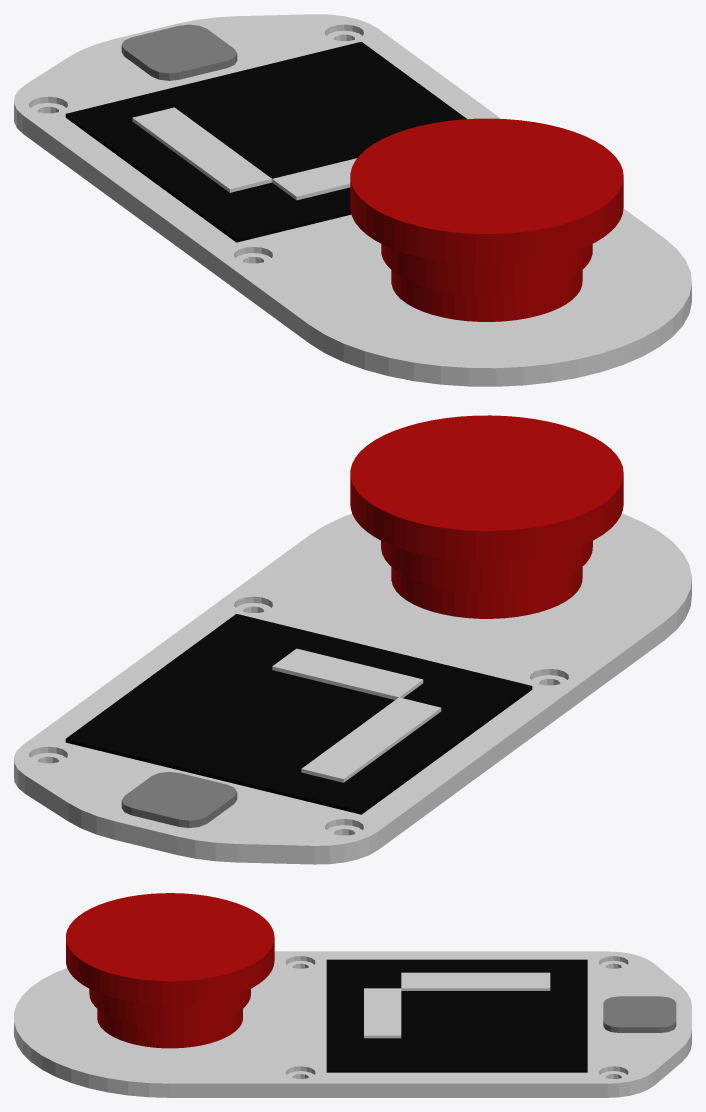
The model's file is ERC2022_button_ID3.dae.
3 views of the same model, one above another, from view 1: azimuth 30°, elevation 25°; view 2: azimuth 150°, elevation 25°; view 3: azimuth 270°, elevation 25° (orthographic). The views are drawn at different scales.
Visible parts, largest first — view 1: ERC2022 grzyb white ID3, ERC2022 grzyb red, ERC2022 grzyb black, ERC2022 grzyb green; view 2: ERC2022 grzyb white ID3, ERC2022 grzyb red, ERC2022 grzyb black, ERC2022 grzyb green; view 3: ERC2022 grzyb white ID3, ERC2022 grzyb red, ERC2022 grzyb black, ERC2022 grzyb green.
Part boxes in pixels (bbox=[...]): ERC2022 grzyb white ID3: bbox=[14, 14, 691, 386]; ERC2022 grzyb red: bbox=[350, 118, 623, 321]; ERC2022 grzyb black: bbox=[65, 41, 466, 242]; ERC2022 grzyb green: bbox=[121, 24, 237, 80]; ERC2022 grzyb white ID3: bbox=[14, 513, 691, 864]; ERC2022 grzyb red: bbox=[350, 415, 623, 618]; ERC2022 grzyb black: bbox=[65, 614, 532, 814]; ERC2022 grzyb green: bbox=[121, 771, 237, 827]; ERC2022 grzyb white ID3: bbox=[14, 951, 691, 1097]; ERC2022 grzyb red: bbox=[66, 893, 274, 1048]; ERC2022 grzyb black: bbox=[326, 959, 587, 1072]; ERC2022 grzyb green: bbox=[603, 996, 676, 1032].
Size of the model in its own units: 60 by 130 by 20.
